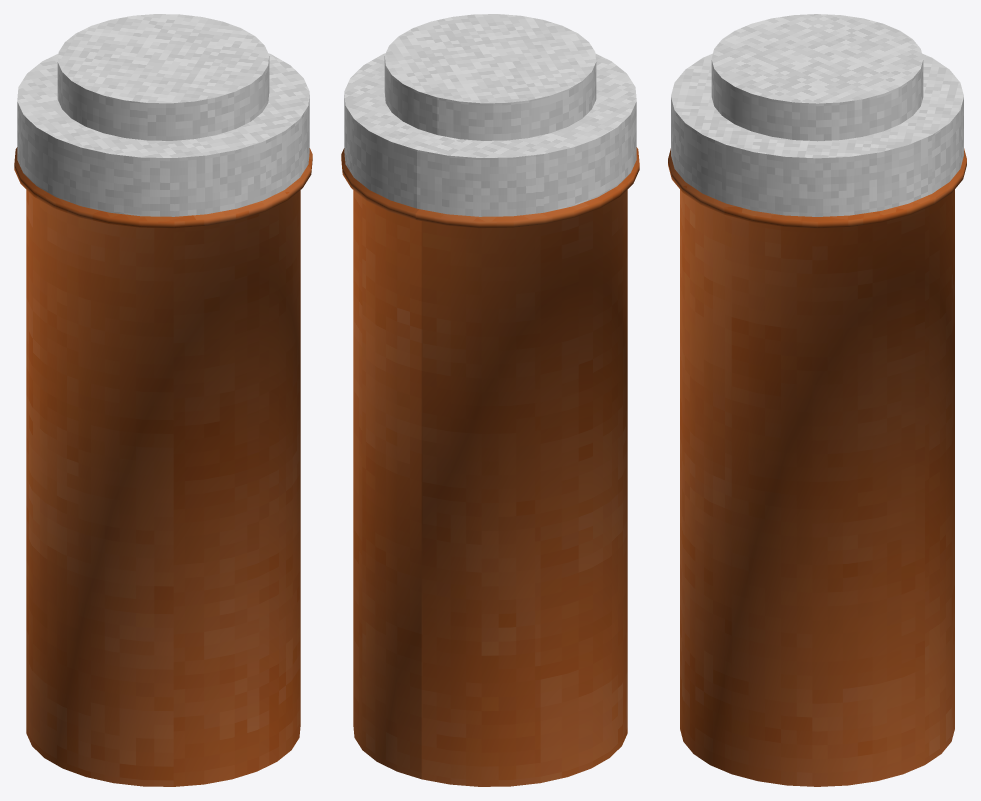
File: pills.fbx
3 views of the same model, side by side, from view 1: azimuth 30°, elevation 25°; view 2: azimuth 150°, elevation 25°; view 3: azimuth 270°, elevation 25° (orthographic).
Visible parts, largest first — view 1: Cylinder.002; view 2: Cylinder.002; view 3: Cylinder.002.
Part boxes in pixels (x1,y1,x2,y2): Cylinder.002: (14,14,312,786); Cylinder.002: (341,14,639,786); Cylinder.002: (668,14,966,786).
Bounding box in the file's own units: 4.86 × 12.02 × 4.86.
